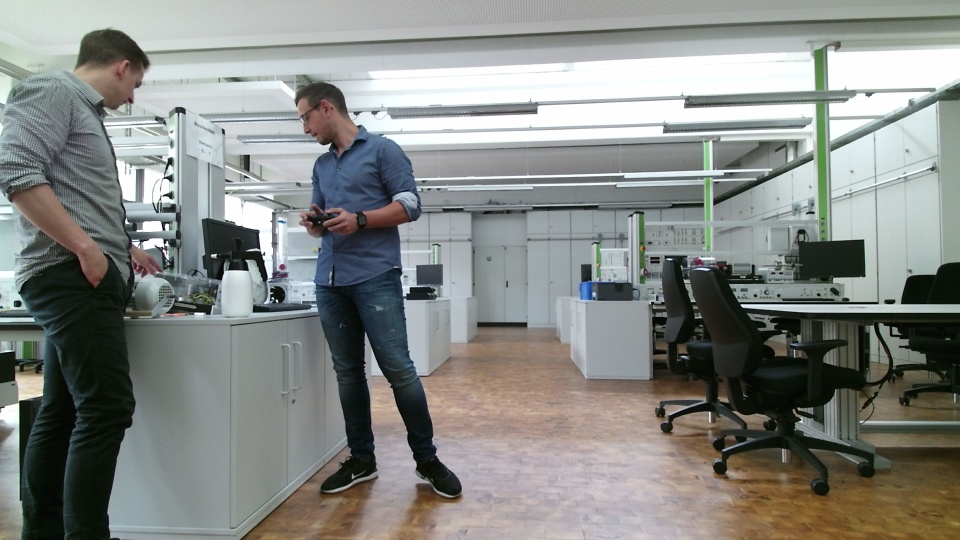Person: (1, 23, 162, 540), (285, 74, 475, 511)
